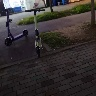beam: (1, 7, 28, 48)
gcooter: (23, 8, 48, 60)
